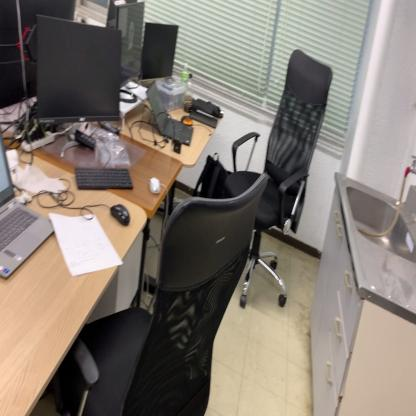chair: (62, 169, 270, 415), (219, 49, 332, 310)
